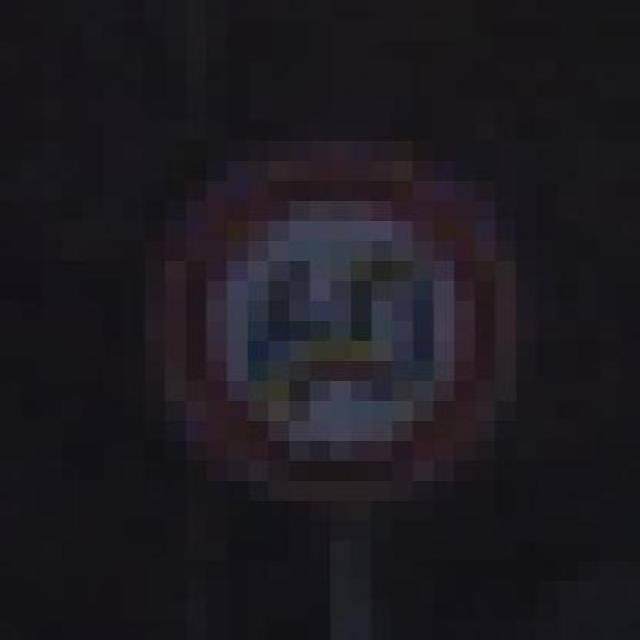forb_speed_over_60: (175, 167, 500, 491)
